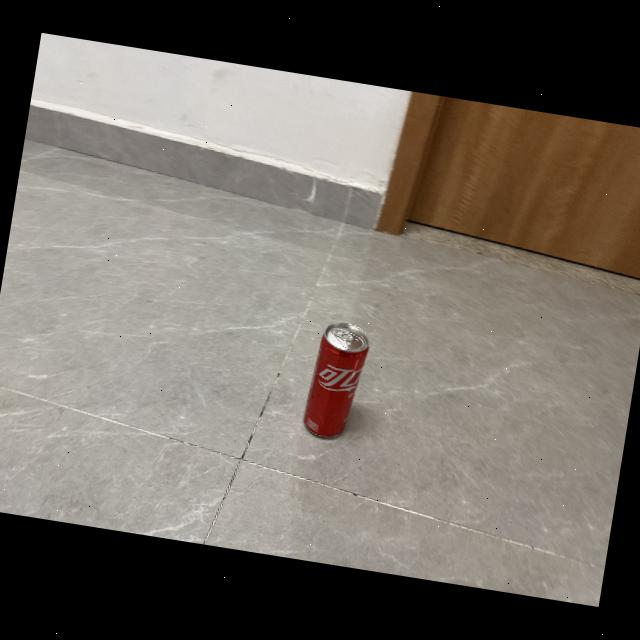Cola: (295, 316, 378, 448)
